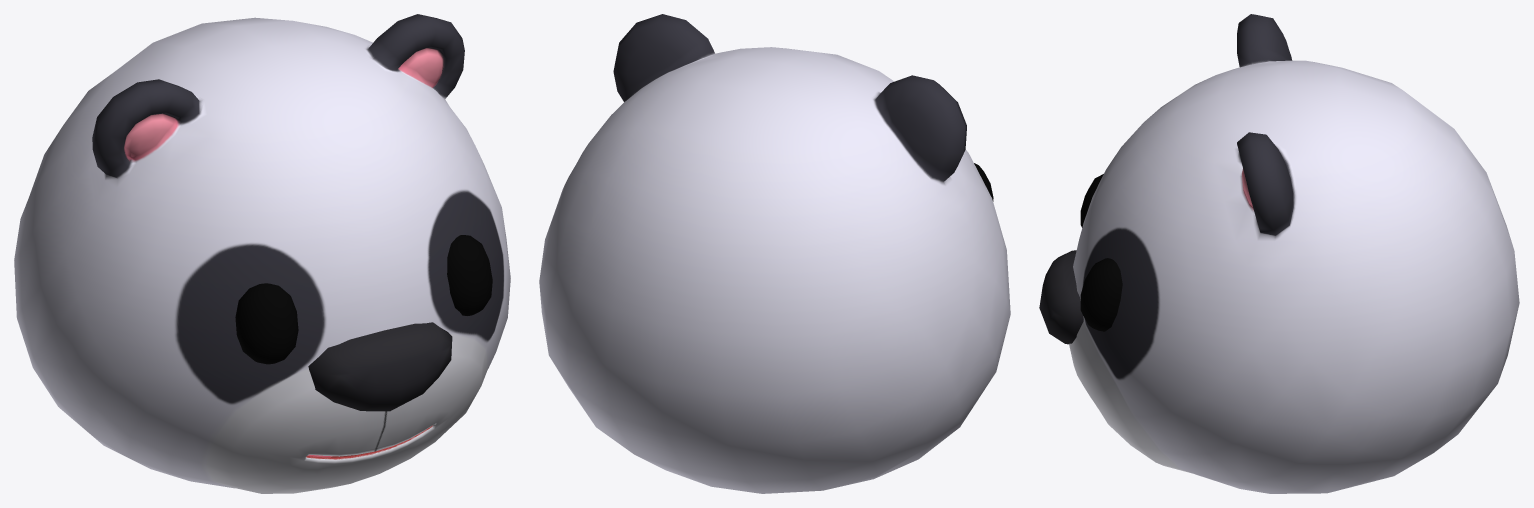
Rendered from PandaHead.FBX.
3 renders of one model, left to right at view 1: azimuth 30°, elevation 25°; view 2: azimuth 150°, elevation 25°; view 3: azimuth 270°, elevation 25°, orthographic. The views are drawn at different scales.
Visible parts, largest first — view 1: PandaHead; view 2: PandaHead; view 3: PandaHead.
Boxes of the visible parts, x1,y1,x2,y2 form: PandaHead: (14, 14, 510, 493); PandaHead: (539, 14, 1010, 493); PandaHead: (1039, 14, 1519, 493).
Size of the model in its own units: 42.37 by 39.43 by 44.42.
Materials: 4 (4 with a texture image).
